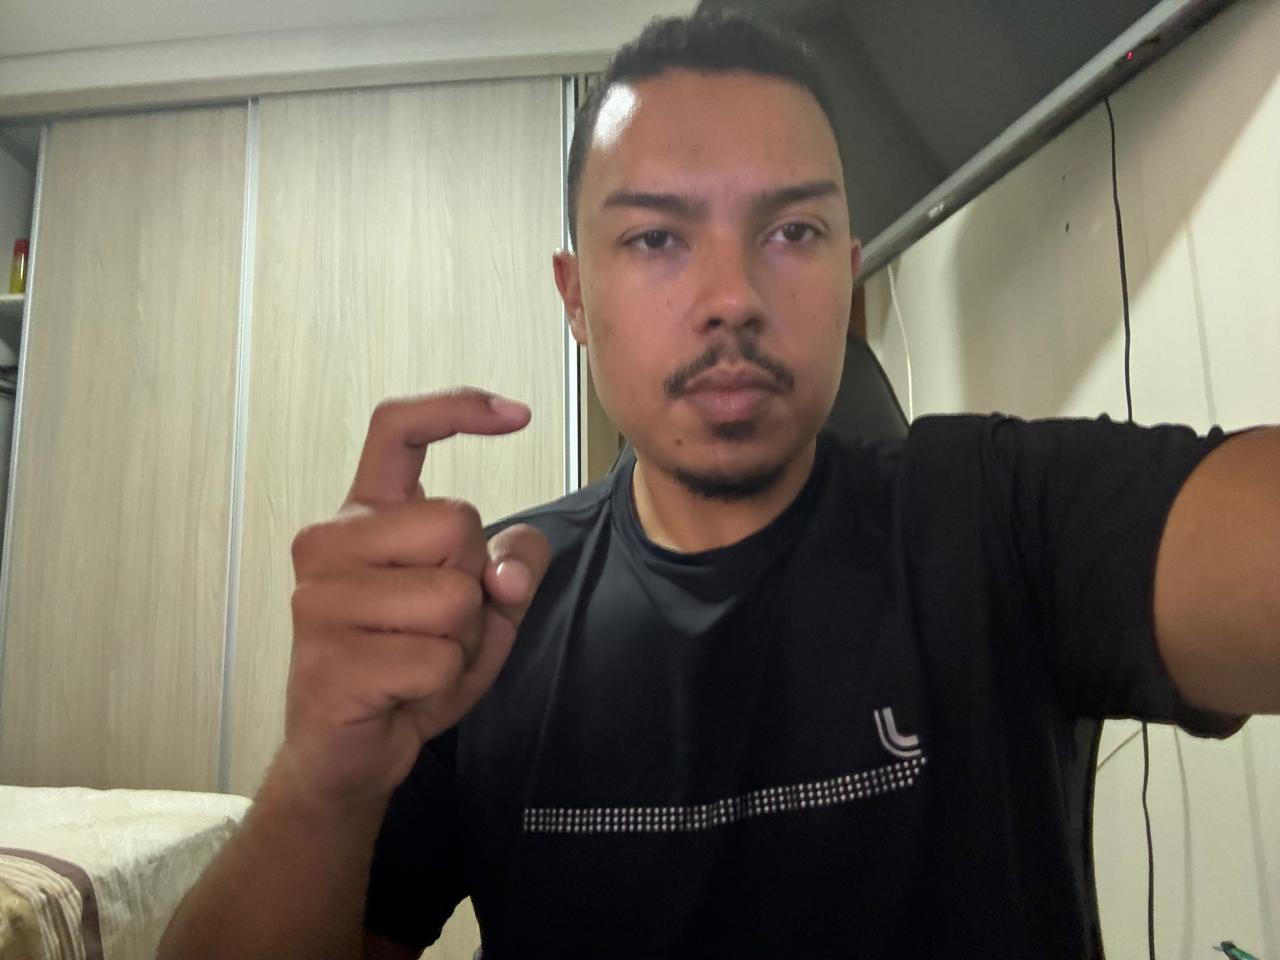x: (274, 371, 553, 826)
